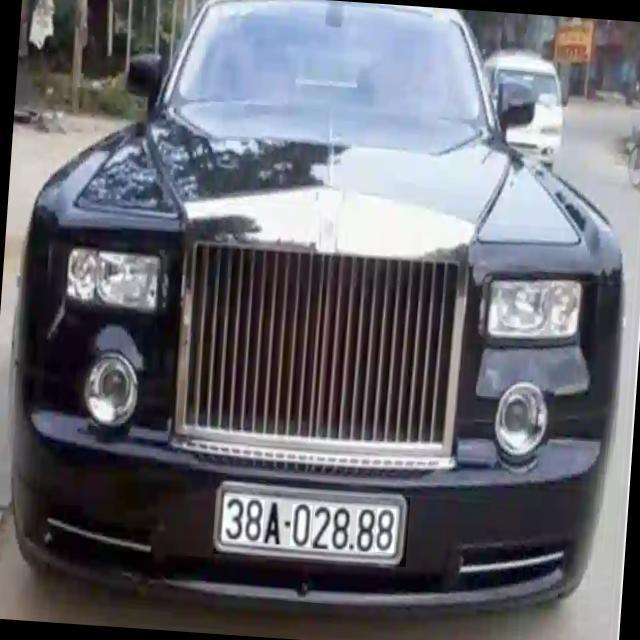car: (0, 0, 618, 615), (474, 44, 570, 173)
plate: (212, 484, 409, 569)
